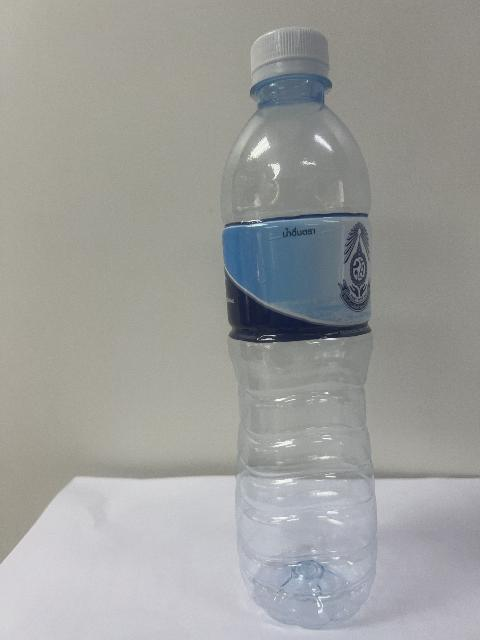bottle: (222, 28, 376, 628)
